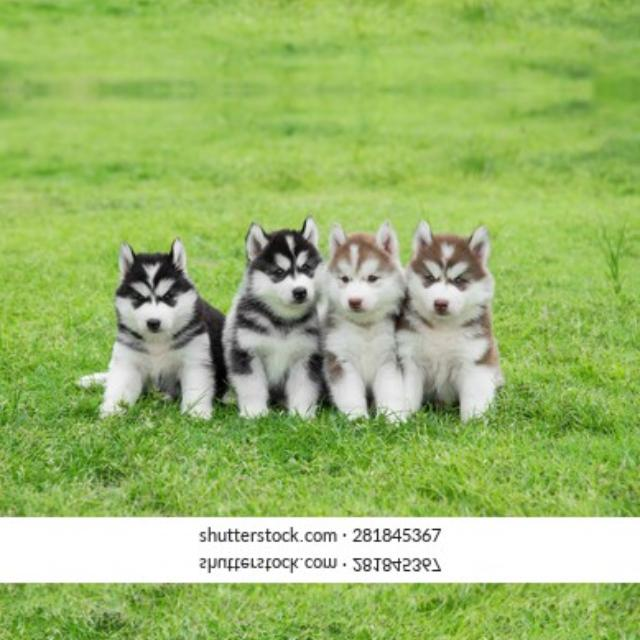dog: (82, 200, 238, 430), (208, 199, 348, 437)
